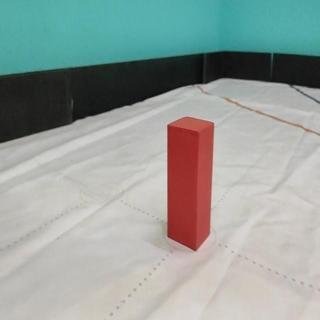redbox: (165, 115, 215, 251)
